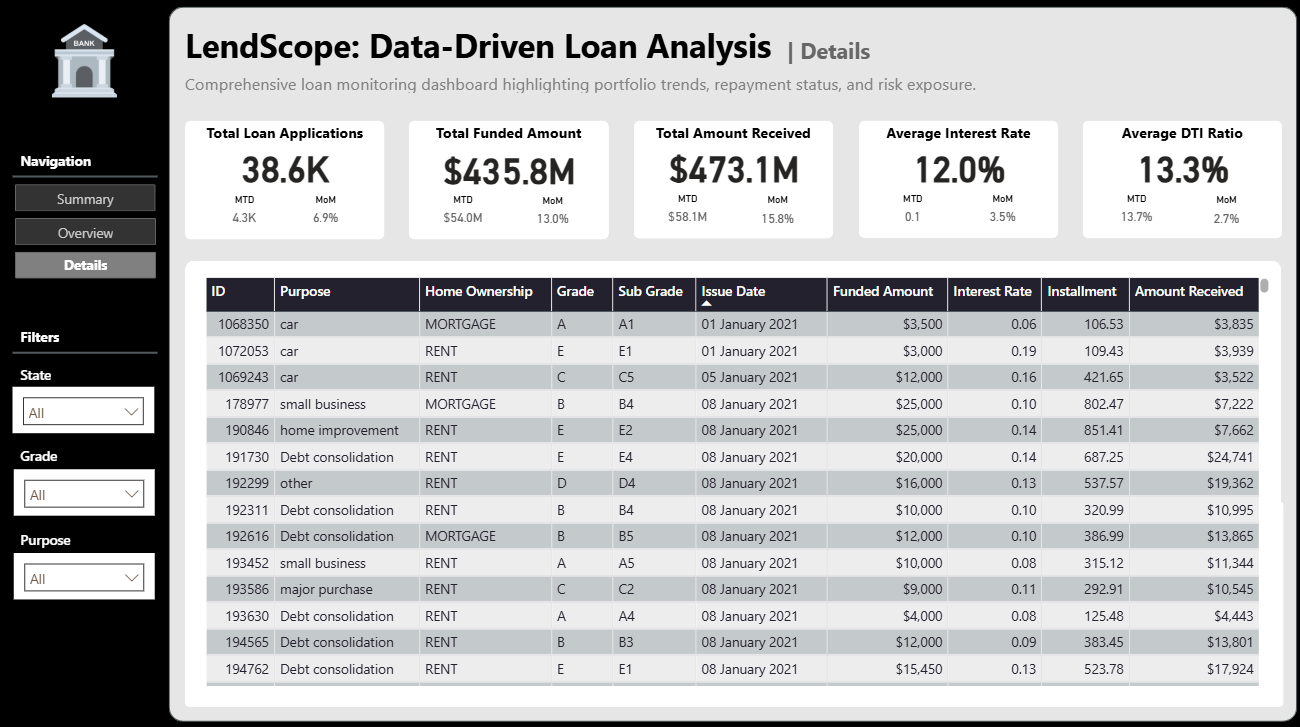

The page's visual inventory and layout, read from the dashboard file:
{"tool":"powerbi","page":{"name":"Page 1","canvas":[1280,720],"ordinal":0},"visuals":[{"type":"group","id":"g1","title":"Heading","box":[0,8.8,1273.3,701.9],"z":0},{"type":"shape","title":"White Background","box":[165.7,8.8,1107.6,701.9],"z":0,"group":"g1"},{"type":"shape","title":"Total Loan Applications","box":[181.8,120,195.9,117.1],"z":0,"group":"g3"},{"type":"shape","title":"Total Loan Applications","box":[401.8,120,196.5,117.1],"z":0,"group":"g5"},{"type":"shape","title":"Total Loan Applications","box":[842.4,120,195.9,115.6],"z":0,"group":"g9"},{"type":"shape","title":"Total Loan Applications","box":[1062.4,120,196.1,115.9],"z":0,"group":"g10"},{"type":"shape","title":"Total Loan Applications","box":[622.4,120.6,195.8,116.1],"z":0,"group":"g7"},{"type":"shape","title":"Navigation Line","box":[12,166,142.4,16.7],"z":0,"group":"g11"},{"type":"shape","box":[183.6,258.2,529.1,220],"z":0,"group":"g12"},{"type":"shape","box":[731.4,258.6,529.1,220],"z":0,"group":"g13"},{"type":"group","id":"g2","title":"Filters","box":[12.5,320,142.9,35.7],"z":0,"group":"g16"},{"type":"shape","title":"Filters Line","box":[12.5,339,142.4,16.7],"z":0,"group":"g2"},{"type":"shape","title":"State","box":[20.4,361,73.9,18.3],"z":0,"group":"g4"},{"type":"shape","title":"Grade","box":[20.5,437.1,52.7,23.3],"z":0,"group":"g6"},{"type":"shape","box":[181.4,494.3,1078.6,201.4],"z":0,"group":"g14"},{"type":"shape","title":"Purpose","box":[20.5,518.6,52.7,23.3],"z":0,"group":"g8"},{"type":"image","title":"Logo","box":[0,21.3,165.6,82.1],"z":1000,"group":"g1"},{"type":"group","id":"g3","title":"Card 1","box":[181.8,120,195.9,117.1],"z":1000},{"type":"card","title":"Card - Loan Applications","fields":{"Values":["Bank_Loan_Data.Avg Interest Rate"]},"box":[858.4,144.4,165.7,41.7],"z":1000,"group":"g9"},{"type":"card","title":"Card - Loan Applications","fields":{"Values":["Bank_Loan_Data.Average DTI"]},"box":[1078.5,144.5,165.9,41.8],"z":1000,"group":"g10"},{"type":"card","title":"Card - Loan Applications","fields":{"Values":["Bank_Loan_Data.Total Loan Application"]},"box":[197.8,144.7,165.7,42.2],"z":1000,"group":"g3"},{"type":"card","title":"Card - Loan Applications","fields":{"Values":["Bank_Loan_Data.Total Amount Received"]},"box":[638.4,145.1,165.6,41.9],"z":1000,"group":"g7"},{"type":"card","title":"Card - Loan Applications","fields":{"Values":["Bank_Loan_Data.Total Funded Amount"]},"box":[417.9,146.5,166,41.2],"z":1000,"group":"g5"},{"type":"shape","title":"Navigation","box":[19.1,147,115.2,23.3],"z":1000,"group":"g11"},{"type":"shape","title":"Filters","box":[19.6,320,115.2,23.3],"z":1000,"group":"g2"},{"type":"group","id":"g4","title":"State","box":[12.8,361,139,66.2],"z":1000,"group":"g16"},{"type":"card","title":"Card - Loan Applications","fields":{"Values":["Bank_Loan_Data.Good Loan Percentage"]},"box":[218,366,165,41],"z":1000,"group":"g12"},{"type":"card","title":"Card - Loan Applications","fields":{"Values":["Bank_Loan_Data.Bad Loan Percentage"]},"box":[765.8,366.4,165,41],"z":1000,"group":"g13"},{"type":"slicer","fields":{"Values":["Bank_Loan_Data.address_state"]},"box":[12.8,382,139,45.2],"z":1000,"group":"g4"},{"type":"slicer","fields":{"Values":["Bank_Loan_Data.grade"]},"box":[13.8,463.1,138,45.3],"z":1000,"group":"g6"},{"type":"tableEx","fields":{"Values":["Bank_Loan_Data.loan_status","Bank_Loan_Data.Total Loan Application","Bank_Loan_Data.Total Funded Amount","Bank_Loan_Data.Total Amount Received","Bank_Loan_Data.MTD Funded Amount","Bank_Loan_Data.MTD Amount Received","Bank_Loan_Data.Avg Interest Rate","Bank_Loan_Data.Average DTI"]},"box":[196.4,510.1,1052.5,174.2],"z":1000,"group":"g14"},{"type":"slicer","fields":{"Values":["Bank_Loan_Data.purpose"]},"box":[13.8,544.6,138,45.3],"z":1000,"group":"g8"},{"type":"shape","title":"Title","box":[181.7,24.9,587.7,41.7],"z":2000,"group":"g1"},{"type":"group","id":"g5","title":"Card 2","box":[401.8,120,196.5,117.1],"z":2000},{"type":"shape","title":"Summary - A","box":[14.1,182.3,138,26.7],"z":2000,"group":"g15"},{"type":"card","title":"MTD","fields":{"Values":["Bank_Loan_Data.MTD Avg Interest Rate"]},"box":[866.9,191.4,57,37.2],"z":2000,"group":"g9"},{"type":"card","title":"MTD","fields":{"Values":["Bank_Loan_Data.MTD Avg DTI"]},"box":[1086.9,191.5,57,37.3],"z":2000,"group":"g10"},{"type":"card","title":"MTD","fields":{"Values":["Bank_Loan_Data.MTD Amount Received"]},"box":[646.8,192.3,56.9,37.4],"z":2000,"group":"g7"},{"type":"card","title":"MTD","fields":{"Values":["Bank_Loan_Data.MTD Loan Applications"]},"box":[218.3,192.8,42.9,37.1],"z":2000,"group":"g3"},{"type":"card","title":"MTD","fields":{"Values":["Bank_Loan_Data.MTD Funded Amount"]},"box":[426.3,192.9,57.1,36.8],"z":2000,"group":"g5"},{"type":"shape","box":[763.3,269.3,166.7,37.8],"z":2000,"group":"g13"},{"type":"donutChart","fields":{"Y":["Bank_Loan_Data.Total Loan Application"],"Category":["Bank_Loan_Data.Good vs Bad Loan"]},"box":[193,295,212,183],"z":2000,"group":"g12"},{"type":"group","id":"g6","title":"Grade","box":[13.8,437.1,138.6,71.4],"z":2000,"group":"g16"},{"type":"shape","title":"Subtitle","box":[181.7,72.8,786.5,20.9],"z":3000,"group":"g1"},{"type":"group","id":"g7","title":"Card 3","box":[622.4,120.6,195.9,116.5],"z":3000},{"type":"card","title":"MoM","fields":{"Values":["Bank_Loan_Data.MoM Avg Interest Rate"]},"box":[955,191.7,56.7,36.9],"z":3000,"group":"g9"},{"type":"card","title":"MoM","fields":{"Values":["Bank_Loan_Data.MoM Avg DTI"]},"box":[1175.1,191.9,56.8,36.9],"z":3000,"group":"g10"},{"type":"card","title":"MoM","fields":{"Values":["Bank_Loan_Data.MoM Amount Received"]},"box":[734.9,192.6,56.7,37],"z":3000,"group":"g7"},{"type":"card","title":"MoM","fields":{"Values":["Bank_Loan_Data.Month On Month Loan Applications"]},"box":[298.3,192.8,42.9,37.1],"z":3000,"group":"g3"},{"type":"card","title":"MoM","fields":{"Values":["Bank_Loan_Data.MoM Funded Amount"]},"box":[514.6,193.3,56.8,36.4],"z":3000,"group":"g5"},{"type":"shape","title":"Details - IA","box":[14,249.3,138.5,26.2],"z":3000,"group":"g15"},{"type":"shape","box":[215.5,268.9,166.7,37.8],"z":3000,"group":"g12"},{"type":"donutChart","fields":{"Y":["Bank_Loan_Data.Total Loan Application"],"Category":["Bank_Loan_Data.Good vs Bad Loan"]},"box":[740.8,295.4,212,183],"z":3000,"group":"g13"},{"type":"group","id":"g8","title":"Purpose","box":[13.8,518.6,138.6,71.4],"z":3000,"group":"g16"},{"type":"shape","title":"Summary","box":[769.4,34.7,114.1,29.4],"z":4000,"group":"g1"},{"type":"group","id":"g9","title":"Card 4","box":[842.4,120,195.9,117.1],"z":4000},{"type":"shape","title":"Overview - IA","box":[13.9,215.8,138.3,26.7],"z":4000,"group":"g15"},{"type":"cardVisual","fields":{"Data":["Bank_Loan_Data.Good Loan Applications","Bank_Loan_Data.Good Loan Funded Amount","Bank_Loan_Data.Good Loan Amount Received"]},"box":[426.2,268.8,277.5,200],"z":4000,"group":"g12"},{"type":"cardVisual","fields":{"Data":["Bank_Loan_Data.Bad Loan Applications","Bank_Loan_Data.Bad Loan Funded Amount","Bank_Loan_Data.Bad Loan Amount Received"]},"box":[974,269.2,277.5,200],"z":4000,"group":"g13"},{"type":"group","id":"g10","title":"Card 5","box":[1062.4,120,197.1,117.1],"z":5000},{"type":"group","id":"g11","title":"Navigation","box":[12,147,142.4,35.7],"z":6000,"group":"g15"},{"type":"group","id":"g12","title":"Good Loan","box":[183.6,258.2,529.1,220],"z":6000},{"type":"group","id":"g13","title":"Bad Loan","box":[731.4,258.6,529.1,220],"z":7000},{"type":"group","id":"g14","title":"Table","box":[181.4,494.3,1078.6,201.4],"z":8000},{"type":"group","id":"g15","title":"Navigation Whole","box":[12,147,142.3,128.8],"z":9000},{"type":"group","id":"g16","title":"Filters Whole","box":[12.3,320,143,351.5],"z":10000}]}

Visuals, with their boxes on the page's 1280x720 design canvas (x1, y1, x2, y2). These are canvas units, not pixel positions in the 1300x727 screenshot, which may show the page scaled, cropped or inside an application window:
"Heading" group: [x1=0, y1=9, x2=1273, y2=711]
"White Background" shape: [x1=166, y1=9, x2=1273, y2=711]
"Total Loan Applications" shape: [x1=182, y1=120, x2=378, y2=237]
"Total Loan Applications" shape: [x1=402, y1=120, x2=598, y2=237]
"Total Loan Applications" shape: [x1=842, y1=120, x2=1038, y2=236]
"Total Loan Applications" shape: [x1=1062, y1=120, x2=1258, y2=236]
"Total Loan Applications" shape: [x1=622, y1=121, x2=818, y2=237]
"Navigation Line" shape: [x1=12, y1=166, x2=154, y2=183]
shape: [x1=184, y1=258, x2=713, y2=478]
shape: [x1=731, y1=259, x2=1260, y2=479]
"Filters" group: [x1=12, y1=320, x2=155, y2=356]
"Filters Line" shape: [x1=12, y1=339, x2=155, y2=356]
"State" shape: [x1=20, y1=361, x2=94, y2=379]
"Grade" shape: [x1=20, y1=437, x2=73, y2=460]
shape: [x1=181, y1=494, x2=1260, y2=696]
"Purpose" shape: [x1=20, y1=519, x2=73, y2=542]
"Logo" image: [x1=0, y1=21, x2=166, y2=103]
"Card 1" group: [x1=182, y1=120, x2=378, y2=237]
"Card - Loan Applications" card: [x1=858, y1=144, x2=1024, y2=186]
"Card - Loan Applications" card: [x1=1078, y1=144, x2=1244, y2=186]
"Card - Loan Applications" card: [x1=198, y1=145, x2=364, y2=187]
"Card - Loan Applications" card: [x1=638, y1=145, x2=804, y2=187]
"Card - Loan Applications" card: [x1=418, y1=146, x2=584, y2=188]
"Navigation" shape: [x1=19, y1=147, x2=134, y2=170]
"Filters" shape: [x1=20, y1=320, x2=135, y2=343]
"State" group: [x1=13, y1=361, x2=152, y2=427]
"Card - Loan Applications" card: [x1=218, y1=366, x2=383, y2=407]
"Card - Loan Applications" card: [x1=766, y1=366, x2=931, y2=407]
slicer - Bank_Loan_Data.address_state: [x1=13, y1=382, x2=152, y2=427]
slicer - Bank_Loan_Data.grade: [x1=14, y1=463, x2=152, y2=508]
tableEx - Bank_Loan_Data.loan_status x Bank_Loan_Data.Total Loan Application: [x1=196, y1=510, x2=1249, y2=684]
slicer - Bank_Loan_Data.purpose: [x1=14, y1=545, x2=152, y2=590]
"Title" shape: [x1=182, y1=25, x2=769, y2=67]
"Card 2" group: [x1=402, y1=120, x2=598, y2=237]
"Summary - A" shape: [x1=14, y1=182, x2=152, y2=209]
"MTD" card: [x1=867, y1=191, x2=924, y2=229]
"MTD" card: [x1=1087, y1=192, x2=1144, y2=229]
"MTD" card: [x1=647, y1=192, x2=704, y2=230]
"MTD" card: [x1=218, y1=193, x2=261, y2=230]
"MTD" card: [x1=426, y1=193, x2=483, y2=230]
shape: [x1=763, y1=269, x2=930, y2=307]
donutChart - Bank_Loan_Data.Total Loan Application x Bank_Loan_Data.Good vs Bad Loan: [x1=193, y1=295, x2=405, y2=478]
"Grade" group: [x1=14, y1=437, x2=152, y2=508]
"Subtitle" shape: [x1=182, y1=73, x2=968, y2=94]
"Card 3" group: [x1=622, y1=121, x2=818, y2=237]
"MoM" card: [x1=955, y1=192, x2=1012, y2=229]
"MoM" card: [x1=1175, y1=192, x2=1232, y2=229]
"MoM" card: [x1=735, y1=193, x2=792, y2=230]
"MoM" card: [x1=298, y1=193, x2=341, y2=230]
"MoM" card: [x1=515, y1=193, x2=571, y2=230]
"Details - IA" shape: [x1=14, y1=249, x2=152, y2=276]
shape: [x1=216, y1=269, x2=382, y2=307]
donutChart - Bank_Loan_Data.Total Loan Application x Bank_Loan_Data.Good vs Bad Loan: [x1=741, y1=295, x2=953, y2=478]
"Purpose" group: [x1=14, y1=519, x2=152, y2=590]
"Summary" shape: [x1=769, y1=35, x2=884, y2=64]
"Card 4" group: [x1=842, y1=120, x2=1038, y2=237]
"Overview - IA" shape: [x1=14, y1=216, x2=152, y2=242]
cardVisual - Bank_Loan_Data.Good Loan Applications x Bank_Loan_Data.Good Loan Funded Amount: [x1=426, y1=269, x2=704, y2=469]
cardVisual - Bank_Loan_Data.Bad Loan Applications x Bank_Loan_Data.Bad Loan Funded Amount: [x1=974, y1=269, x2=1252, y2=469]
"Card 5" group: [x1=1062, y1=120, x2=1260, y2=237]
"Navigation" group: [x1=12, y1=147, x2=154, y2=183]
"Good Loan" group: [x1=184, y1=258, x2=713, y2=478]
"Bad Loan" group: [x1=731, y1=259, x2=1260, y2=479]
"Table" group: [x1=181, y1=494, x2=1260, y2=696]
"Navigation Whole" group: [x1=12, y1=147, x2=154, y2=276]
"Filters Whole" group: [x1=12, y1=320, x2=155, y2=672]
